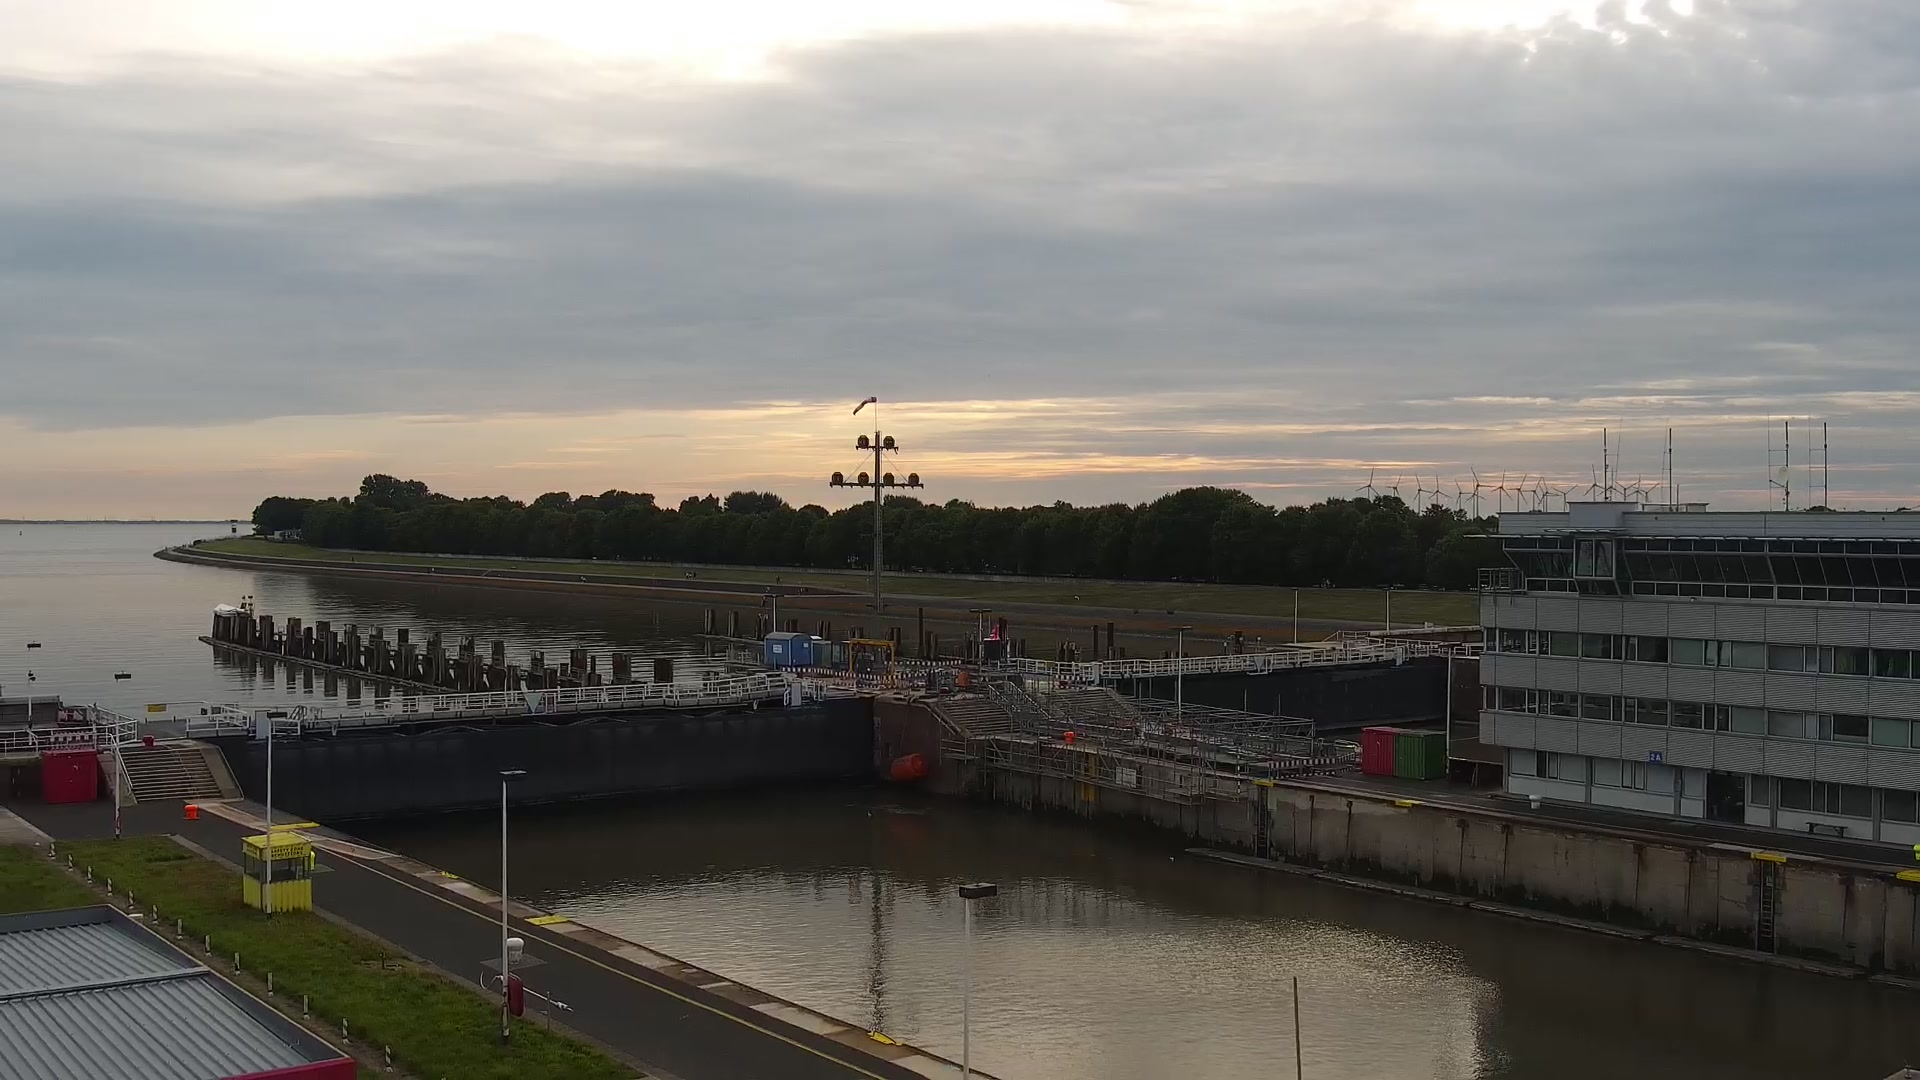human: (1320, 575, 1326, 588), (776, 576, 780, 584), (1326, 578, 1331, 588), (693, 570, 697, 579), (685, 571, 689, 579), (688, 571, 692, 579)
